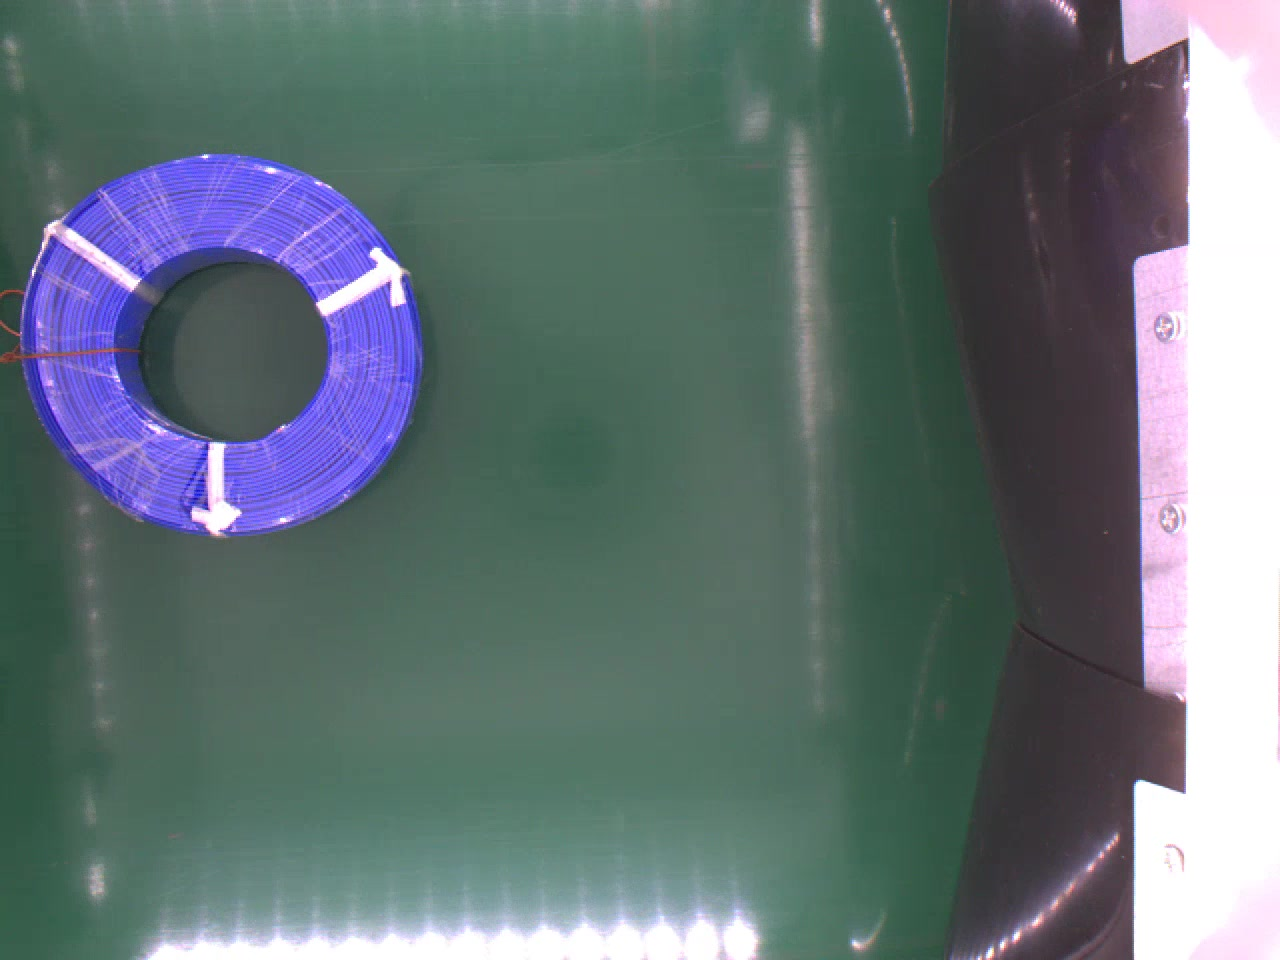blue: (23, 151, 419, 532)
